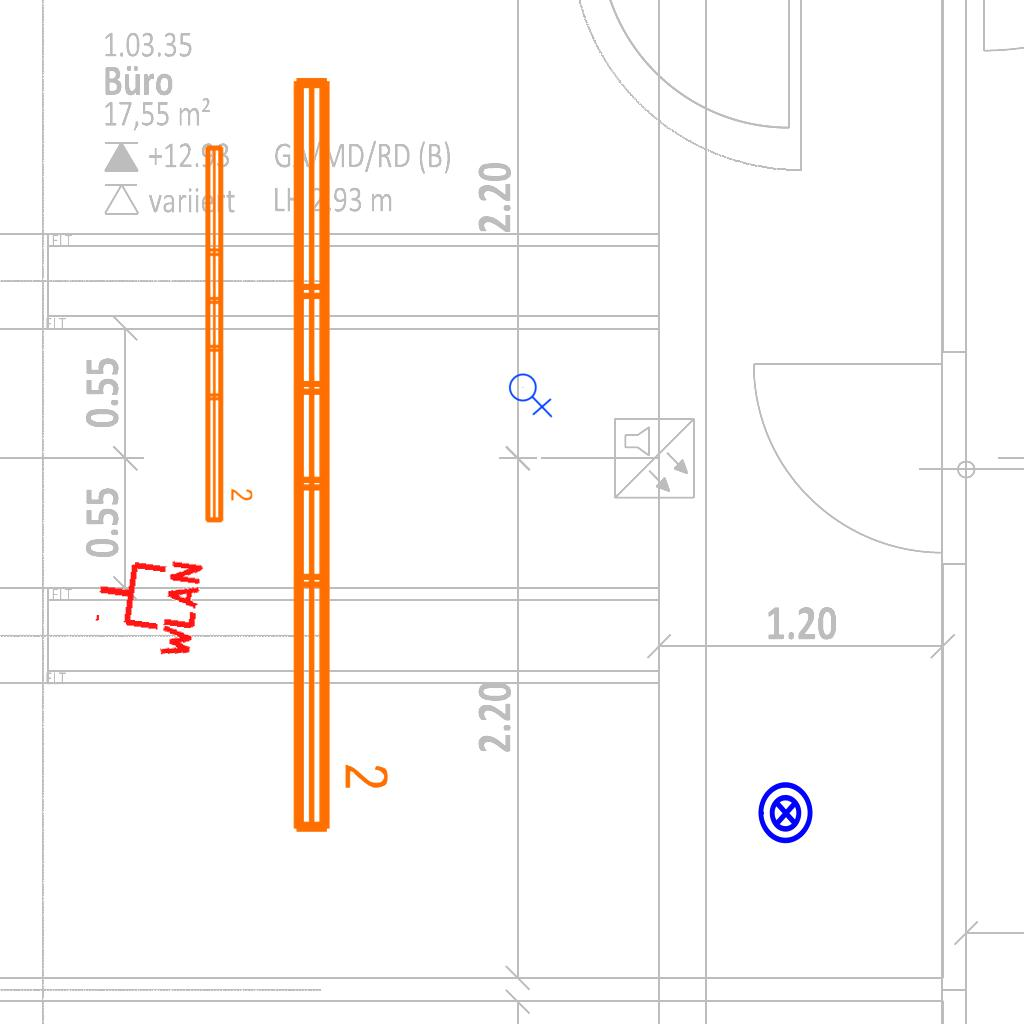Ambulanz_Pendelleuchte_LED: (281, 67, 393, 841), (199, 140, 255, 527)
Elektroanschluss_allgemein_230V_Geraeteanschlussdose_230V: (508, 369, 555, 418)
Taster_beleuchtet: (753, 780, 819, 846)
WLAN: (87, 546, 206, 664)
